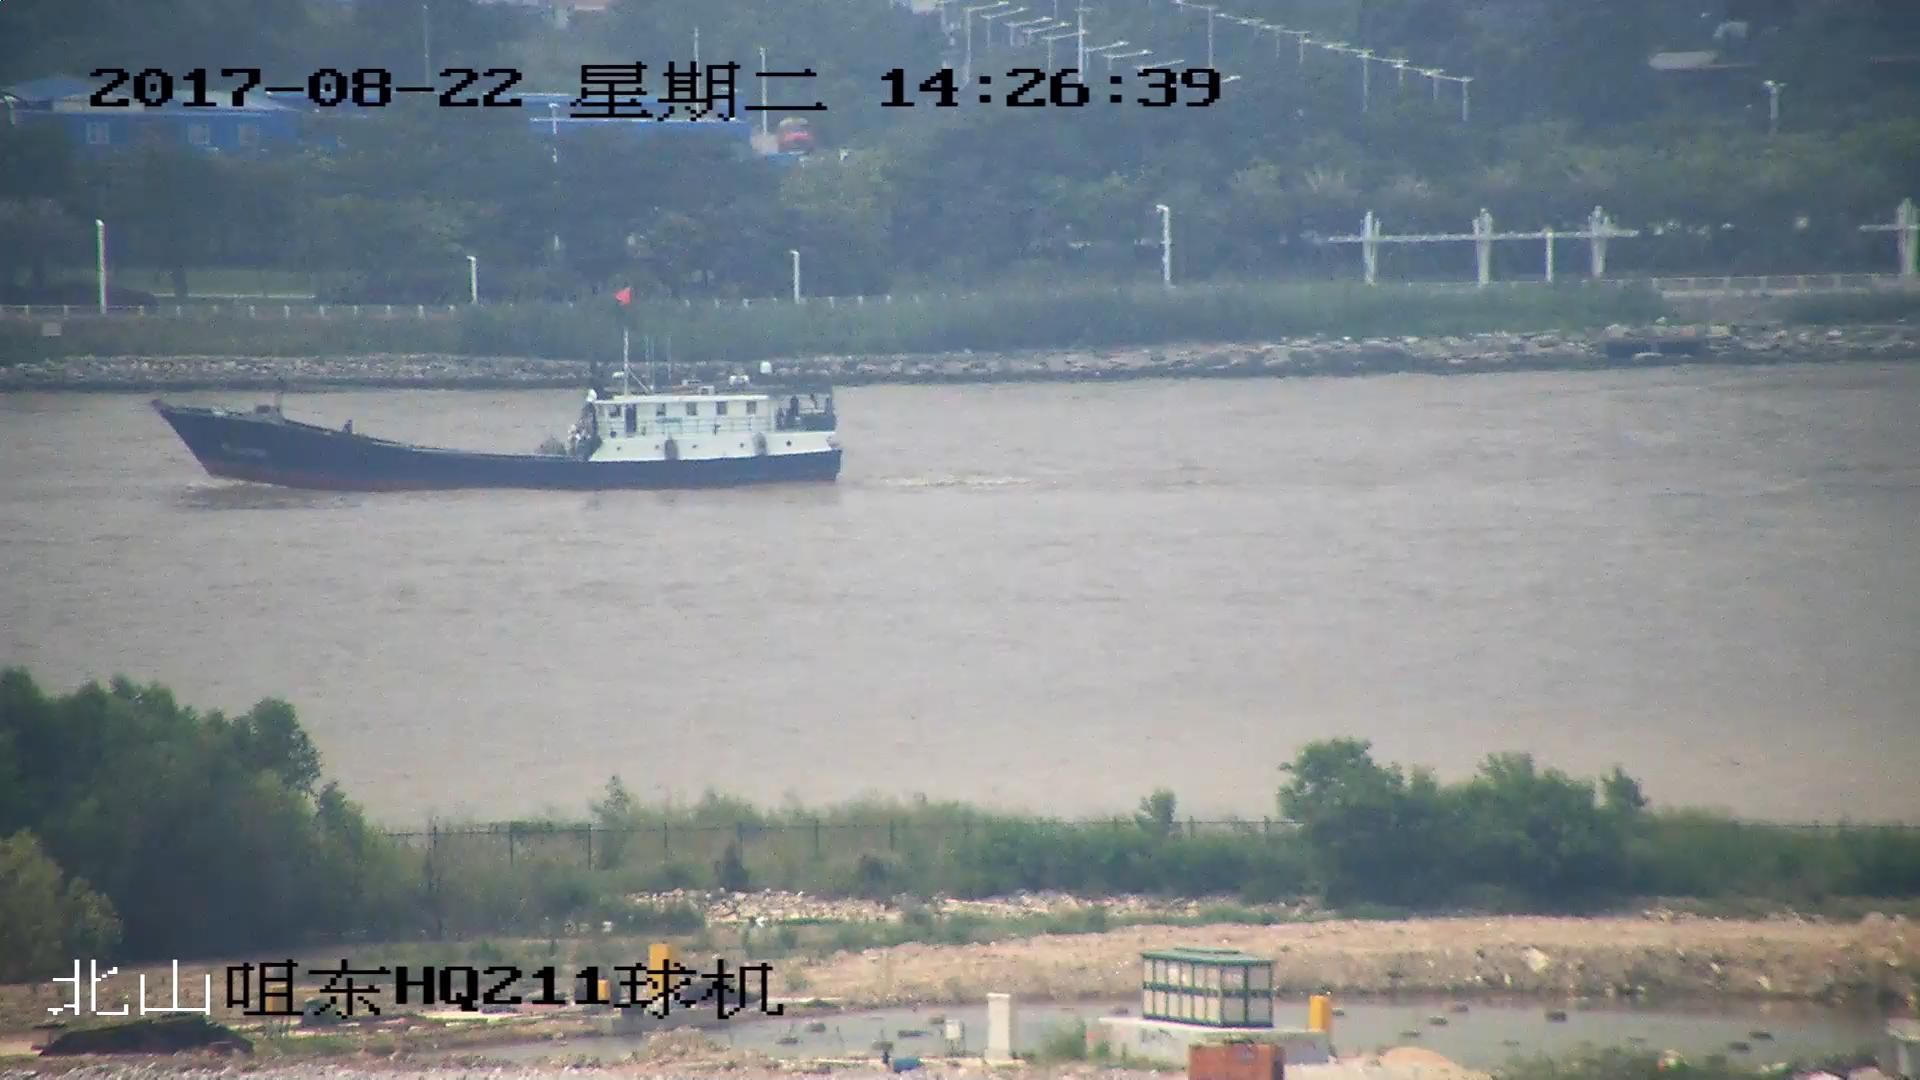fishing boat: (161, 288, 844, 493)
